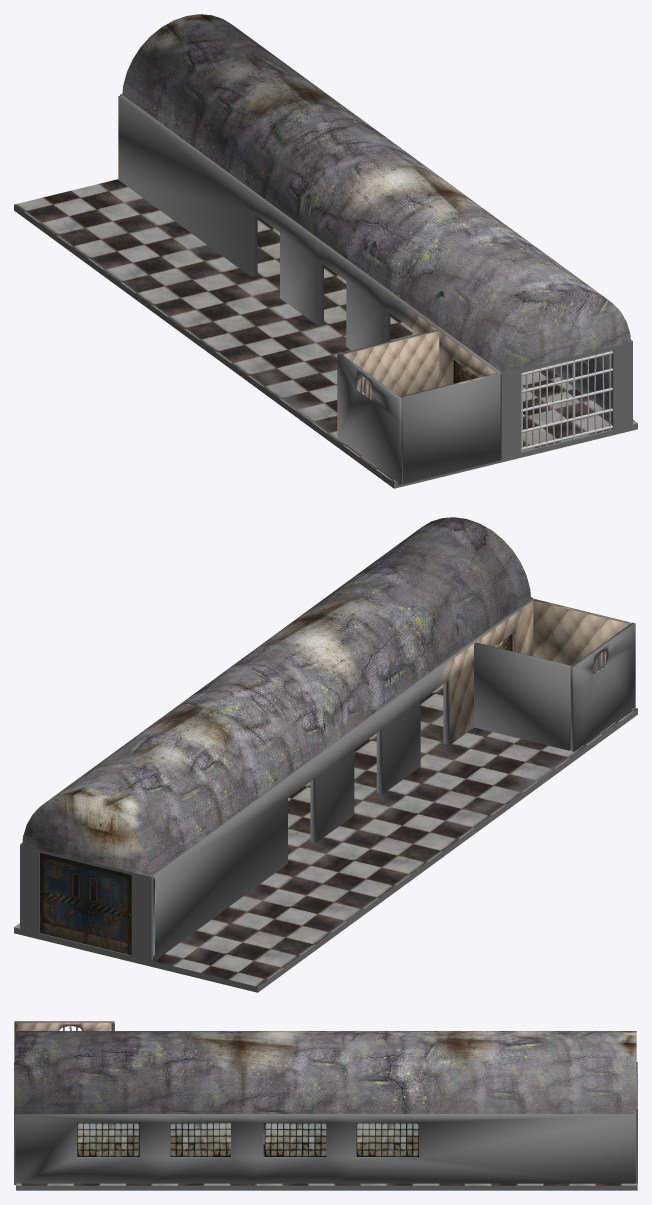
The model's file is FRhospital.fbx.
3 renders of one model, top to bottom at view 1: azimuth 30°, elevation 25°; view 2: azimuth 150°, elevation 25°; view 3: azimuth 270°, elevation 25°, orthographic. The views are drawn at different scales.
Visible parts, largest first — view 1: Roof, Floor, LeftWall, StartRoom, Stairs, PrisonBar, RightWall; view 2: Roof, Floor, LeftWall, StartRoom, ExitDoor, Exit; view 3: Roof, RightWall, Floor, Window.003, Window, Window.004, Window.001, StartRoom, Window.002.
Part boxes in pixels (<box>): Roof: <box>122,14,630,373</box>; Floor: <box>14,179,637,488</box>; LeftWall: <box>118,95,502,386</box>; StartRoom: <box>337,330,500,485</box>; Stairs: <box>500,340,632,459</box>; PrisonBar: <box>521,350,612,451</box>; RightWall: <box>550,340,632,414</box>; Roof: <box>22,517,530,878</box>; Floor: <box>14,685,637,992</box>; LeftWall: <box>151,598,534,960</box>; StartRoom: <box>474,598,635,751</box>; ExitDoor: <box>40,853,131,955</box>; Exit: <box>20,844,153,962</box>; Roof: <box>14,1031,636,1114</box>; RightWall: <box>15,1114,635,1185</box>; Floor: <box>16,1123,637,1190</box>; Window.003: <box>356,1123,418,1156</box>; Window: <box>77,1123,139,1156</box>; Window.004: <box>264,1123,326,1156</box>; Window.001: <box>170,1123,230,1156</box>; StartRoom: <box>14,1021,114,1061</box>; Window.002: <box>265,1123,325,1156</box>.
Bounding box in the file's own units: 7.42 × 4.45 × 20.11.
